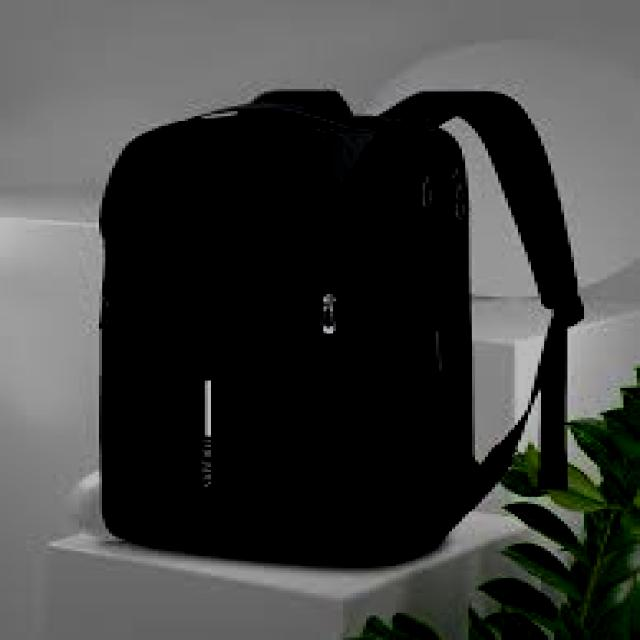backpack: (97, 88, 585, 565)
